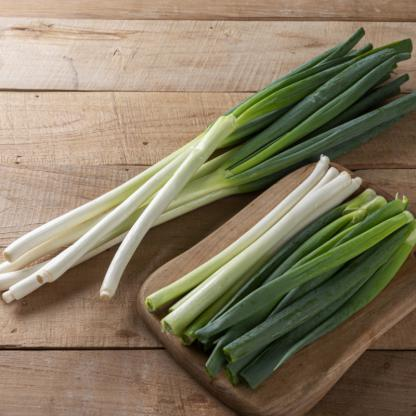green onion: (1, 32, 415, 304), (147, 158, 416, 402)
